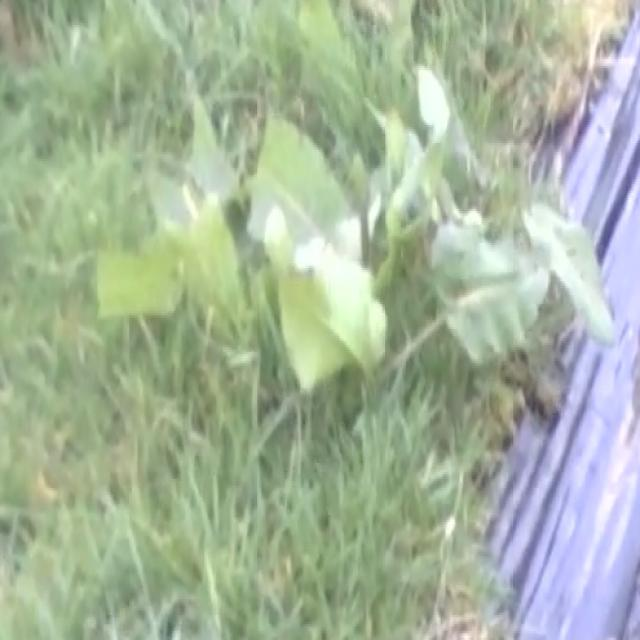organic waste: (92, 28, 619, 466)
